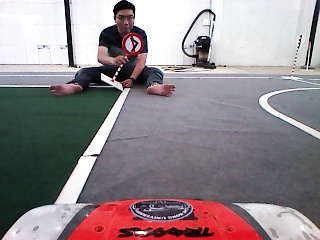ban_left: (121, 32, 143, 55)
